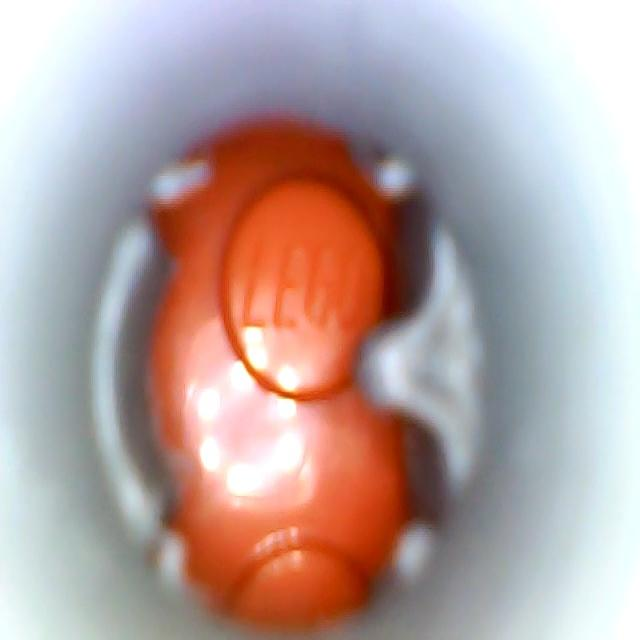studs: (221, 177, 384, 399), (227, 539, 369, 628)
